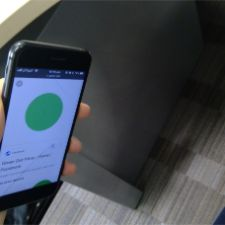focus: (23, 88, 68, 136)
